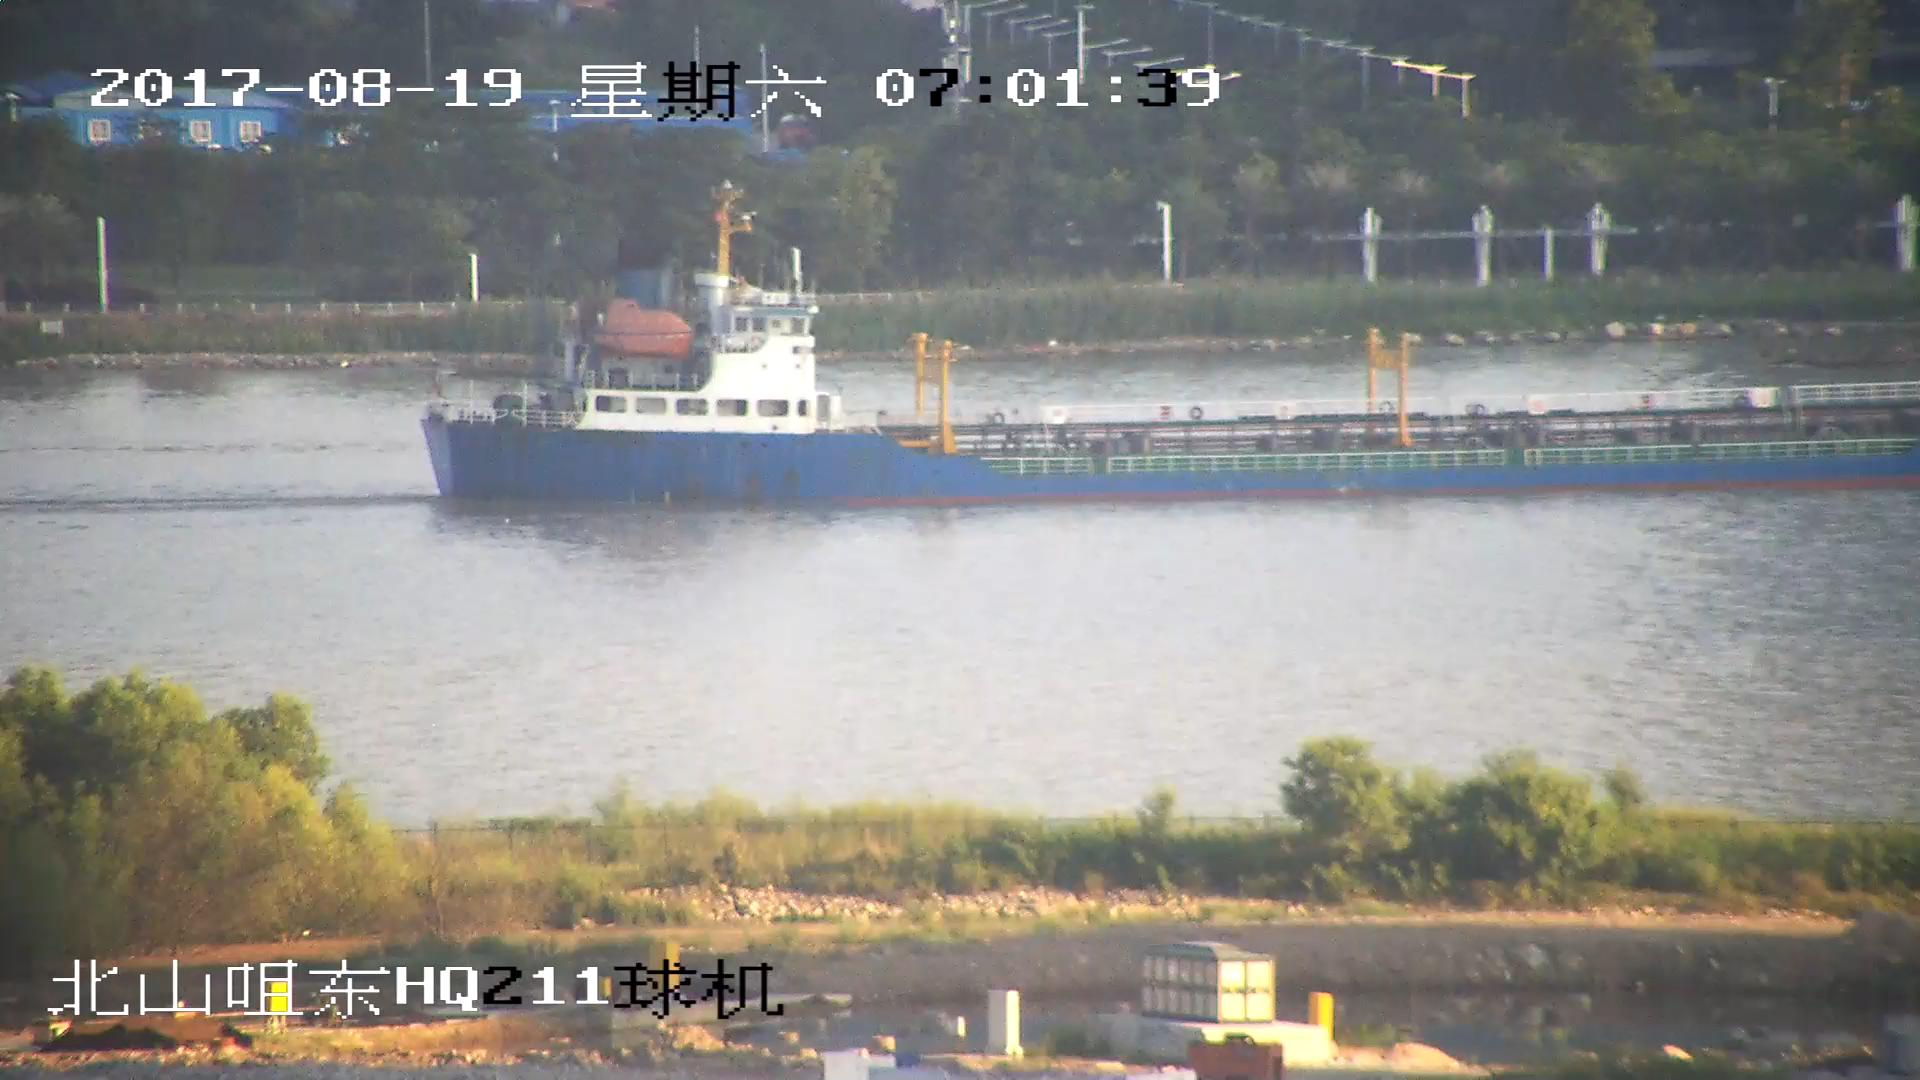general cargo ship: (406, 194, 1920, 498)
